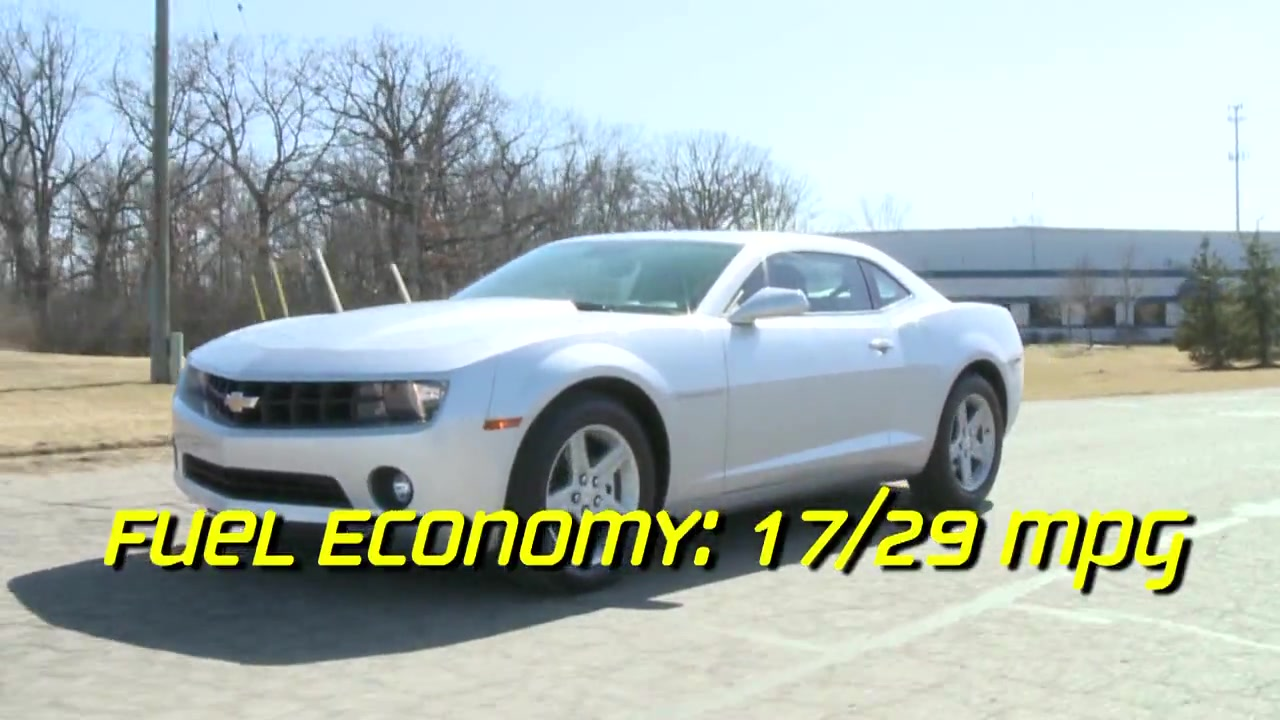car: (170, 226, 1031, 596)
